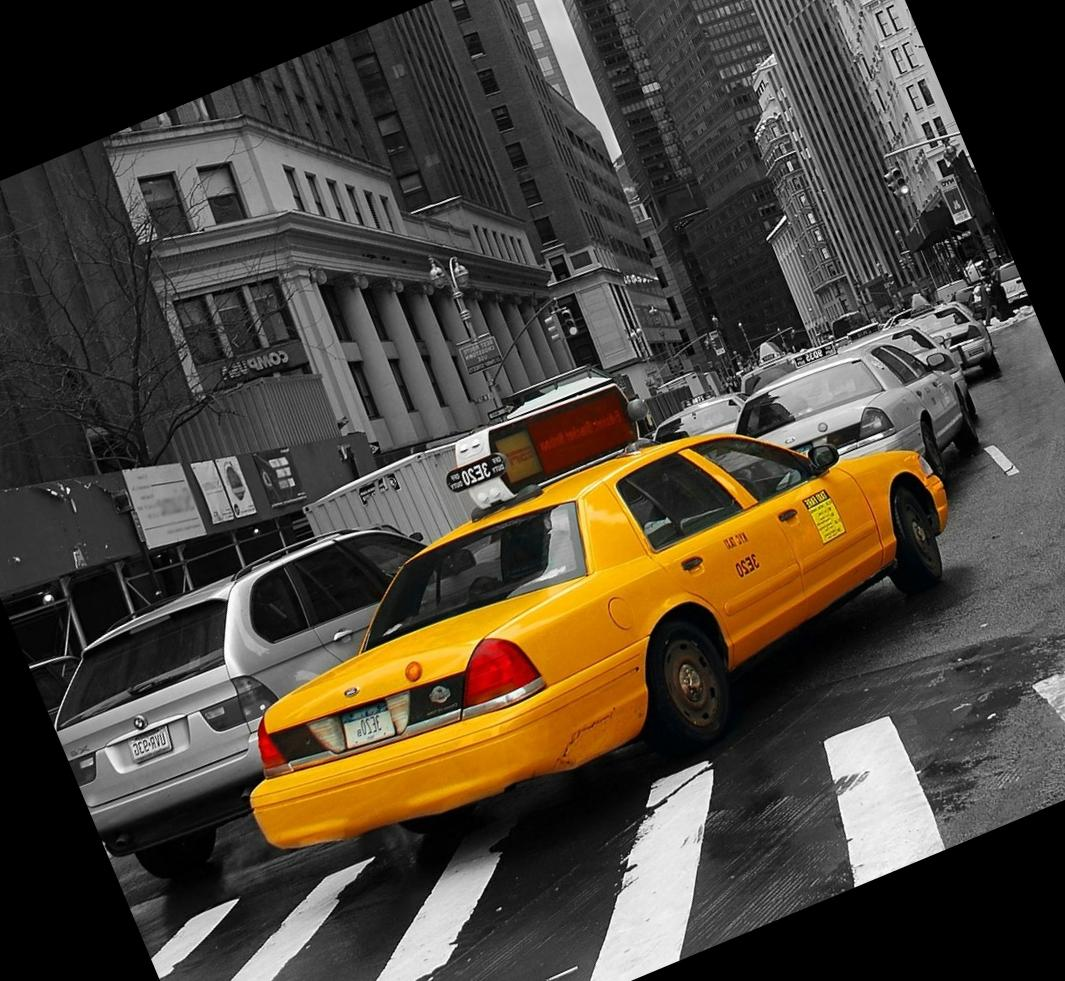taxi: (231, 420, 933, 869)
